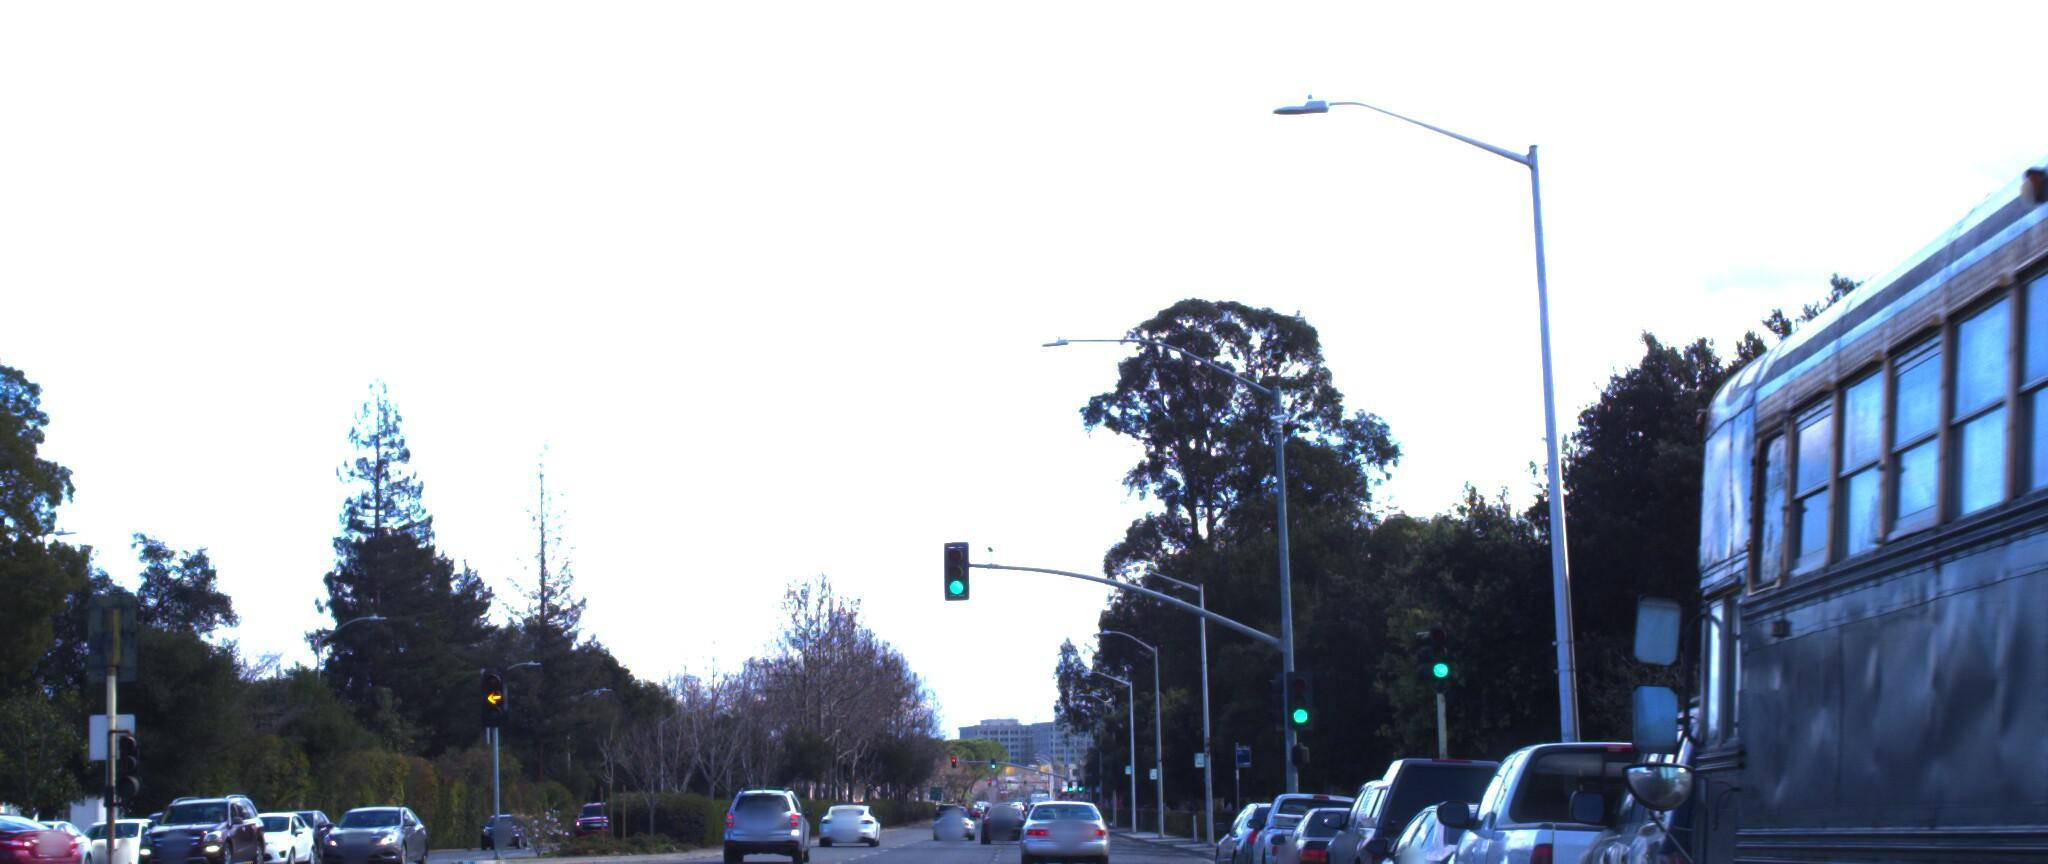bus: (1614, 0, 2048, 864)
car: (1549, 677, 2048, 864), (1417, 709, 1863, 864), (1320, 744, 1553, 864), (1357, 787, 1657, 864), (1249, 782, 1400, 864), (141, 782, 280, 864), (50, 795, 178, 864), (711, 774, 803, 857), (1004, 790, 1097, 864), (0, 807, 82, 864)
